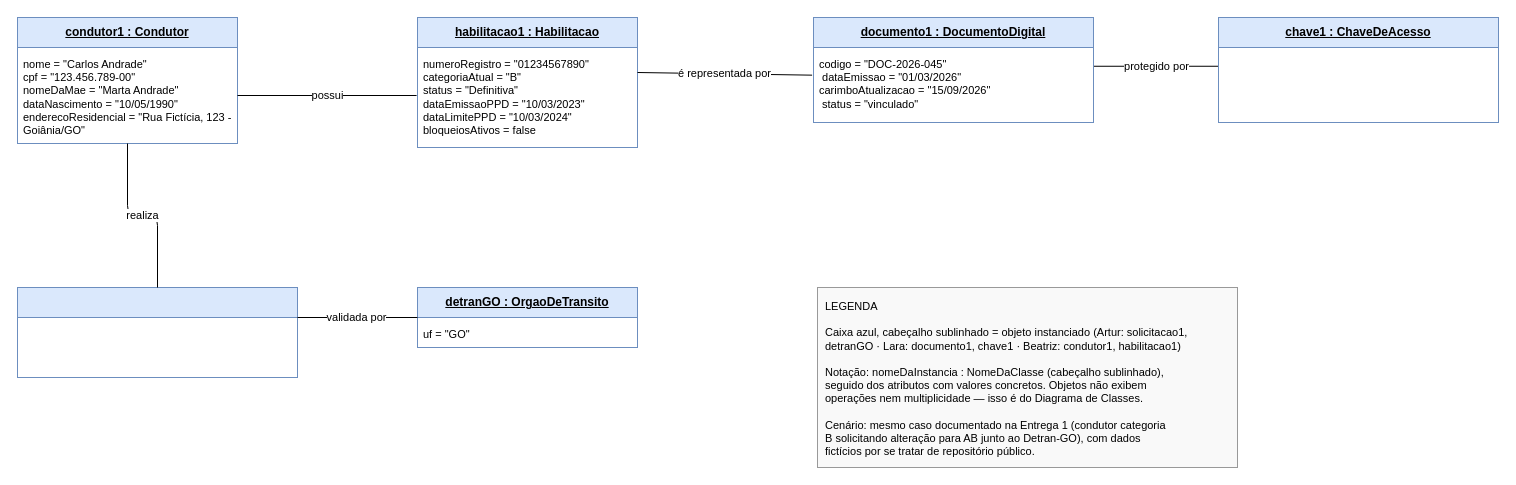
Some shapes in this 1516 by 485 pixel diagram are drawn without their labels. Each missing label, with the box of its shape:
categoriaDesejada = "AB" status = "Em análise" dataSolicitacao = 15/09/2026: (16, 316, 298, 378)
codigo = "CH-7B2E" dataGeracao = "01/03/2026" validade = "01/03/2027": (1218, 46, 1498, 122)
solicitacao1 : SolicitacaoAlteracaoCategoria: (16, 286, 298, 318)
